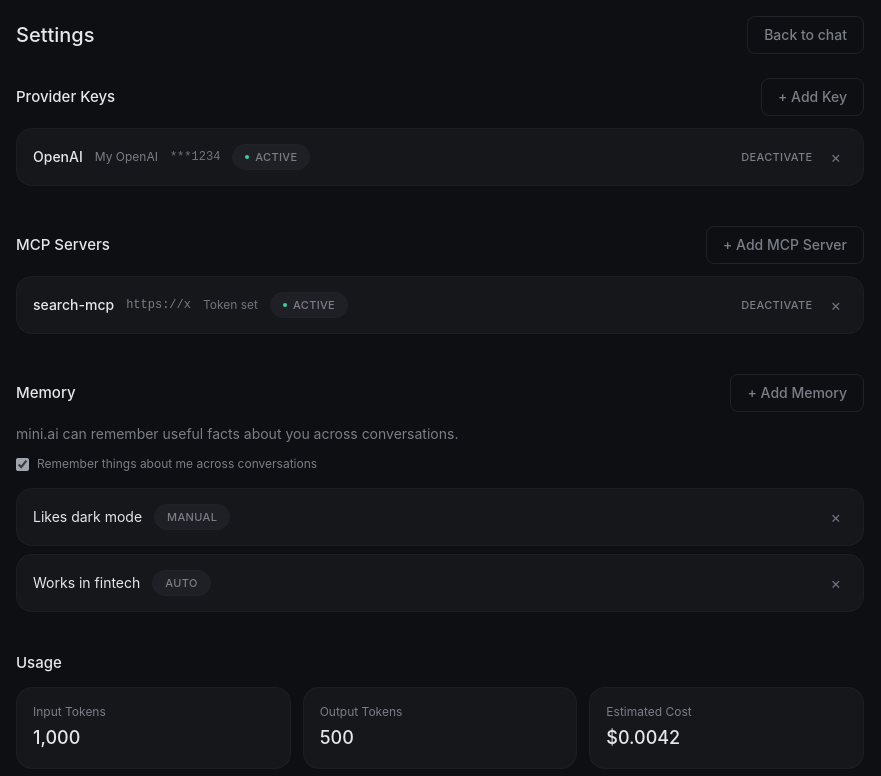
Test: Provider Keys › deletes a key after confirmation
The width and height of the screenshot is (881, 776).
expect the text "My OpenAI" is shown: met, box [95,149,158,165]
Click the button named "Delete My OpenAI". click: (836, 157)
box: [824,141,847,173]
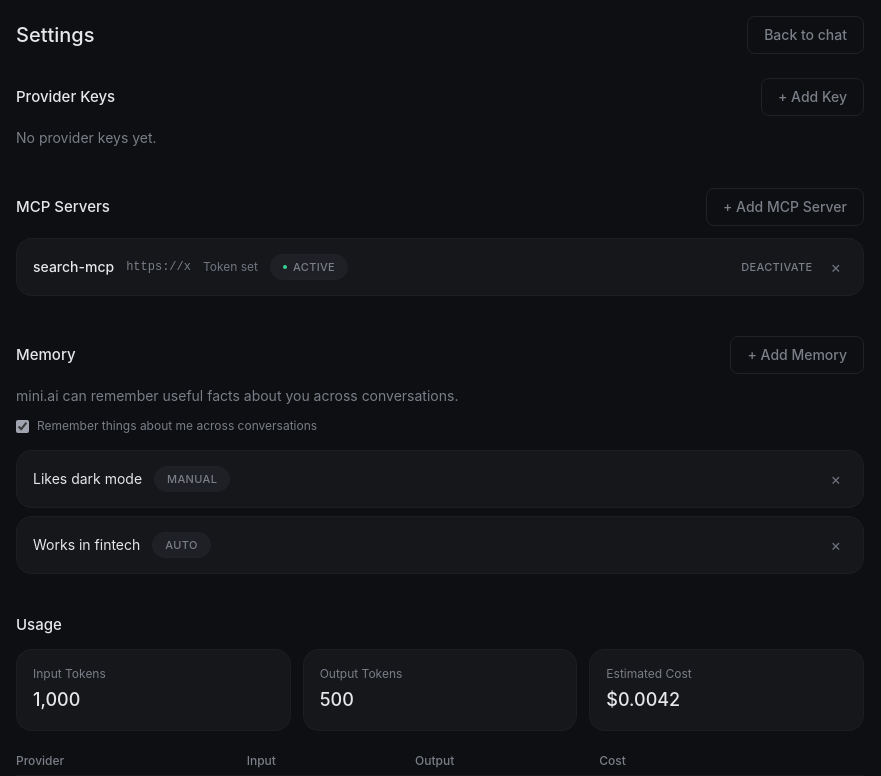
expect the text "My OpenAI" is gone: met
